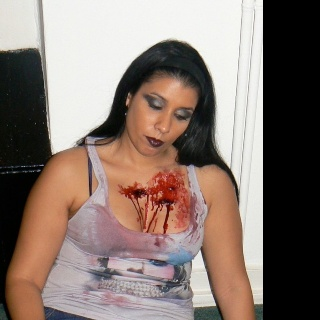without_mask: (125, 74, 200, 154)
